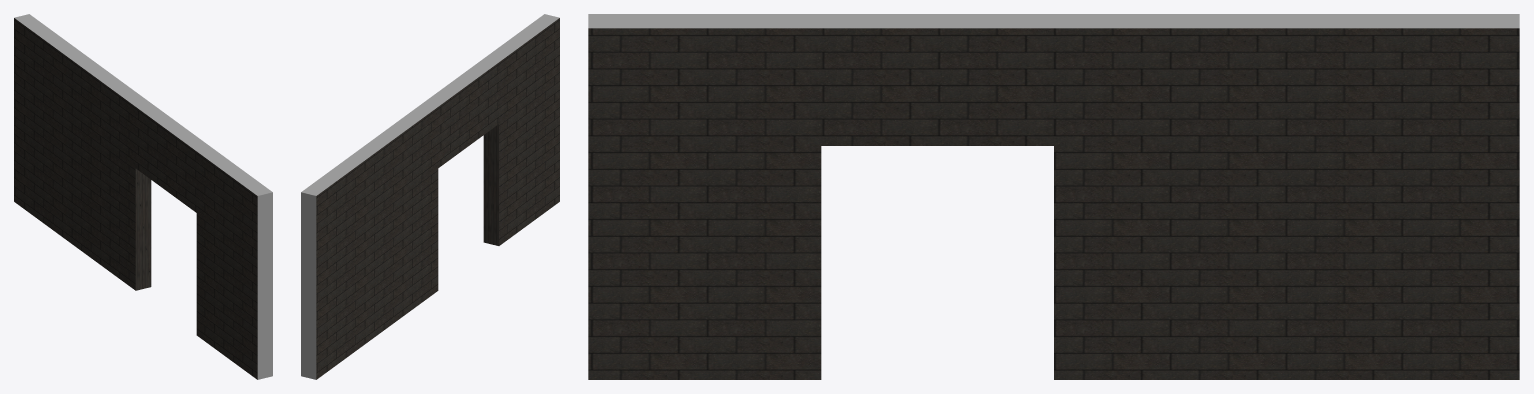
Rendered from Dungeon_Wall_Door.fbx.
3 views of the same model, side by side, from view 1: azimuth 30°, elevation 25°; view 2: azimuth 150°, elevation 25°; view 3: azimuth 270°, elevation 25° (orthographic). The views are drawn at different scales.
Visible parts, largest first — view 1: Dungeon_Wall_Door; view 2: Dungeon_Wall_Door; view 3: Dungeon_Wall_Door.
Boxes of the visible parts, x1=… form: Dungeon_Wall_Door: x1=14, y1=14, x2=272, y2=379; Dungeon_Wall_Door: x1=301, y1=14, x2=559, y2=379; Dungeon_Wall_Door: x1=588, y1=14, x2=1519, y2=379.
Size of the model in its own units: 43.75 by 500 by 1200.
